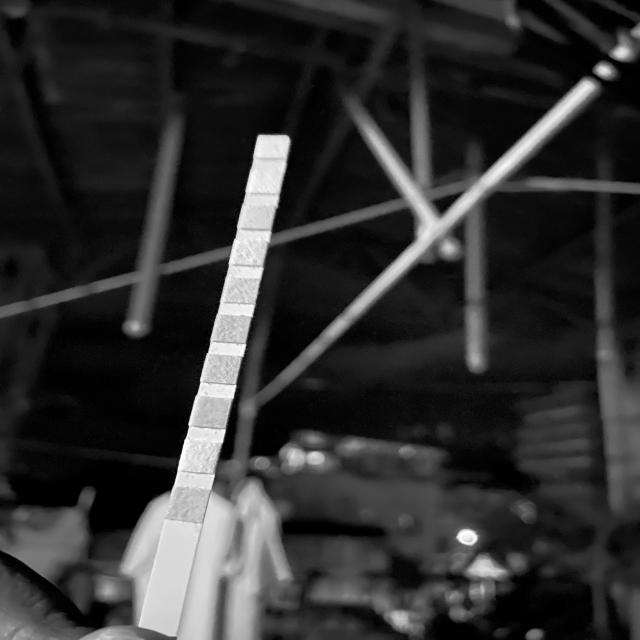Bilirubin: (186, 444, 216, 472)
Blood: (218, 318, 245, 341)
Glucose: (173, 490, 204, 520)
Ketone: (196, 400, 226, 425)
Leukocytes: (258, 136, 285, 158)
Nitrite: (250, 172, 279, 192)
Protein: (235, 242, 264, 264)
SpGravity: (206, 358, 235, 381)
Urobilinogen: (242, 208, 270, 228)
background: (0, 0, 640, 640)
pH: (225, 280, 255, 302)
strip: (138, 135, 291, 637)
